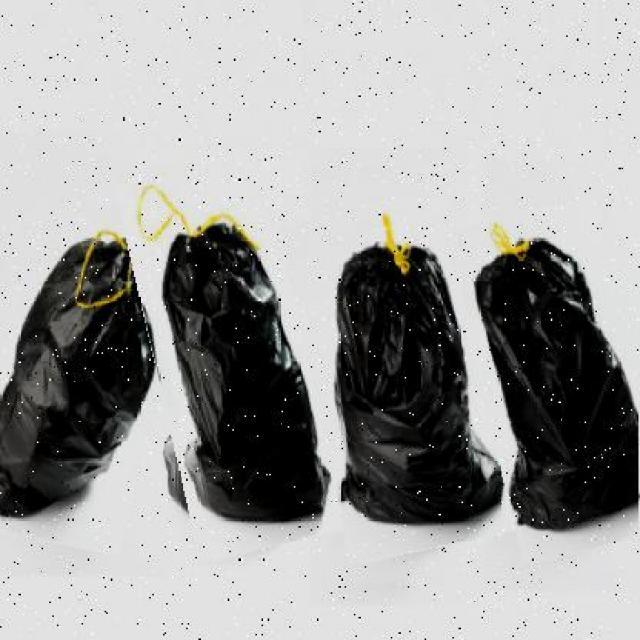waste: (137, 160, 328, 556), (295, 196, 503, 558), (0, 148, 185, 550), (463, 202, 639, 558)
